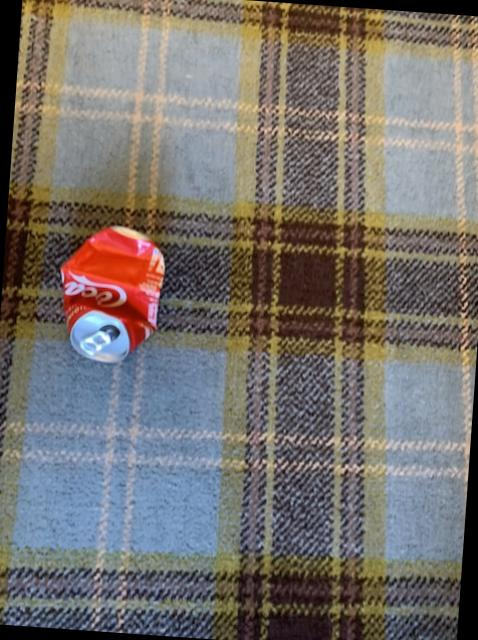metal: (61, 228, 165, 364)
